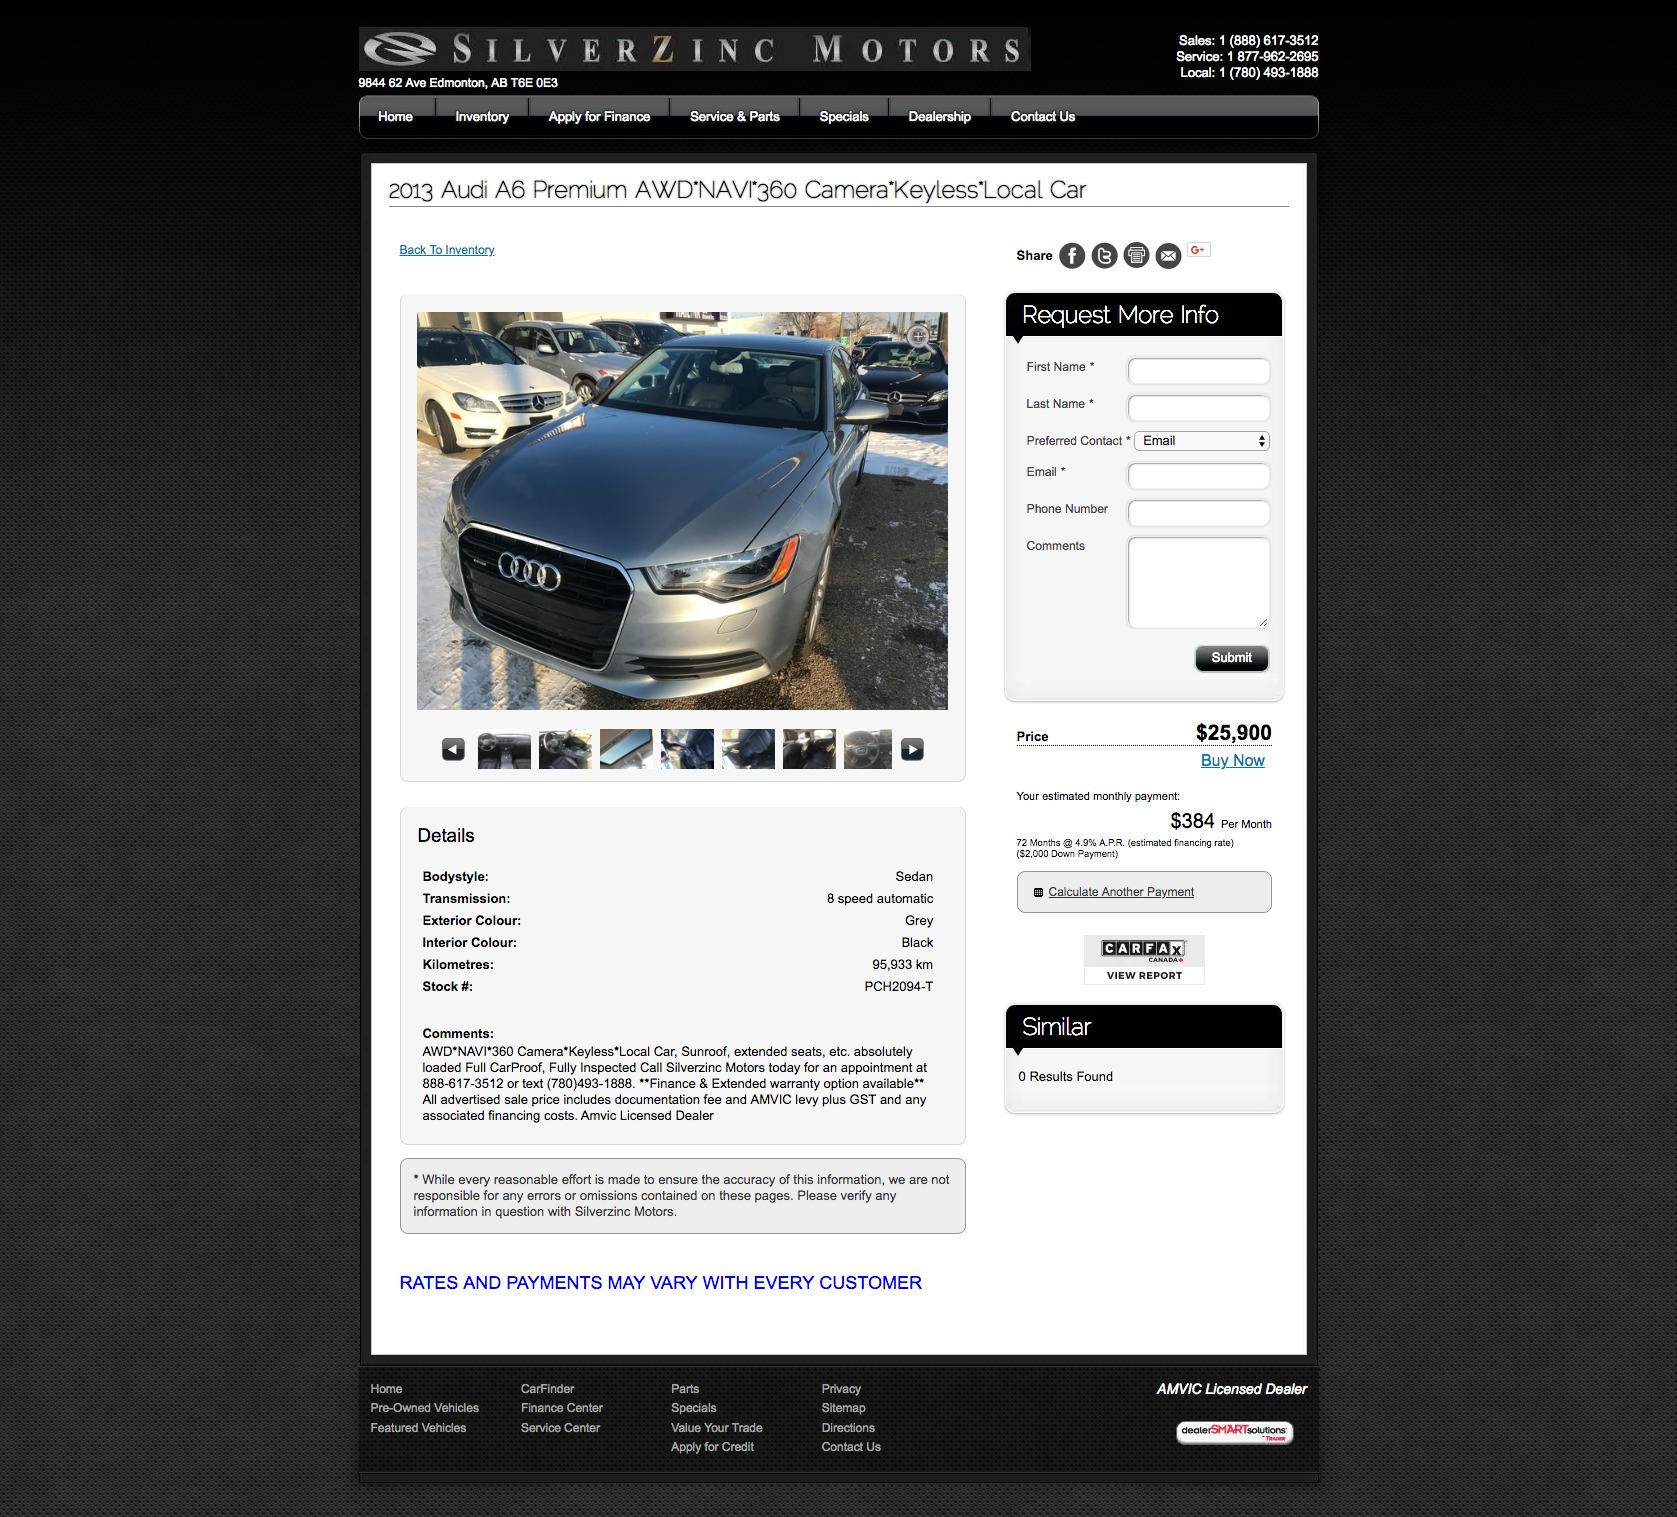car: (910, 745, 919, 756)
